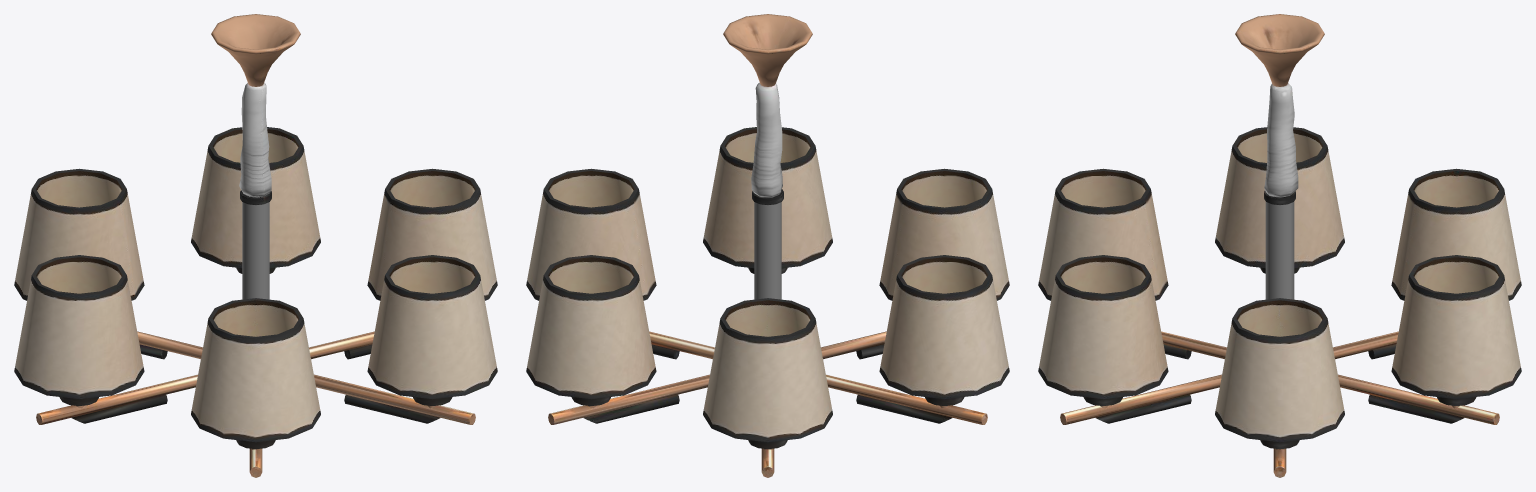
3 renders of one model, left to right at view 1: azimuth 30°, elevation 25°; view 2: azimuth 150°, elevation 25°; view 3: azimuth 270°, elevation 25°, orthographic.
Visible parts, largest first — view 1: model, glass; view 2: model, glass; view 3: model, glass.
Boxes of the visible parts, <box> form: model: <box>14,14,497,477</box>; glass: <box>242,202,269,299</box>; model: <box>526,14,1009,477</box>; glass: <box>754,202,781,299</box>; model: <box>1038,14,1521,477</box>; glass: <box>1265,201,1294,299</box>.
Bounding box in the file's own units: 723 × 649 × 569.
2 materials, 1 textured.
